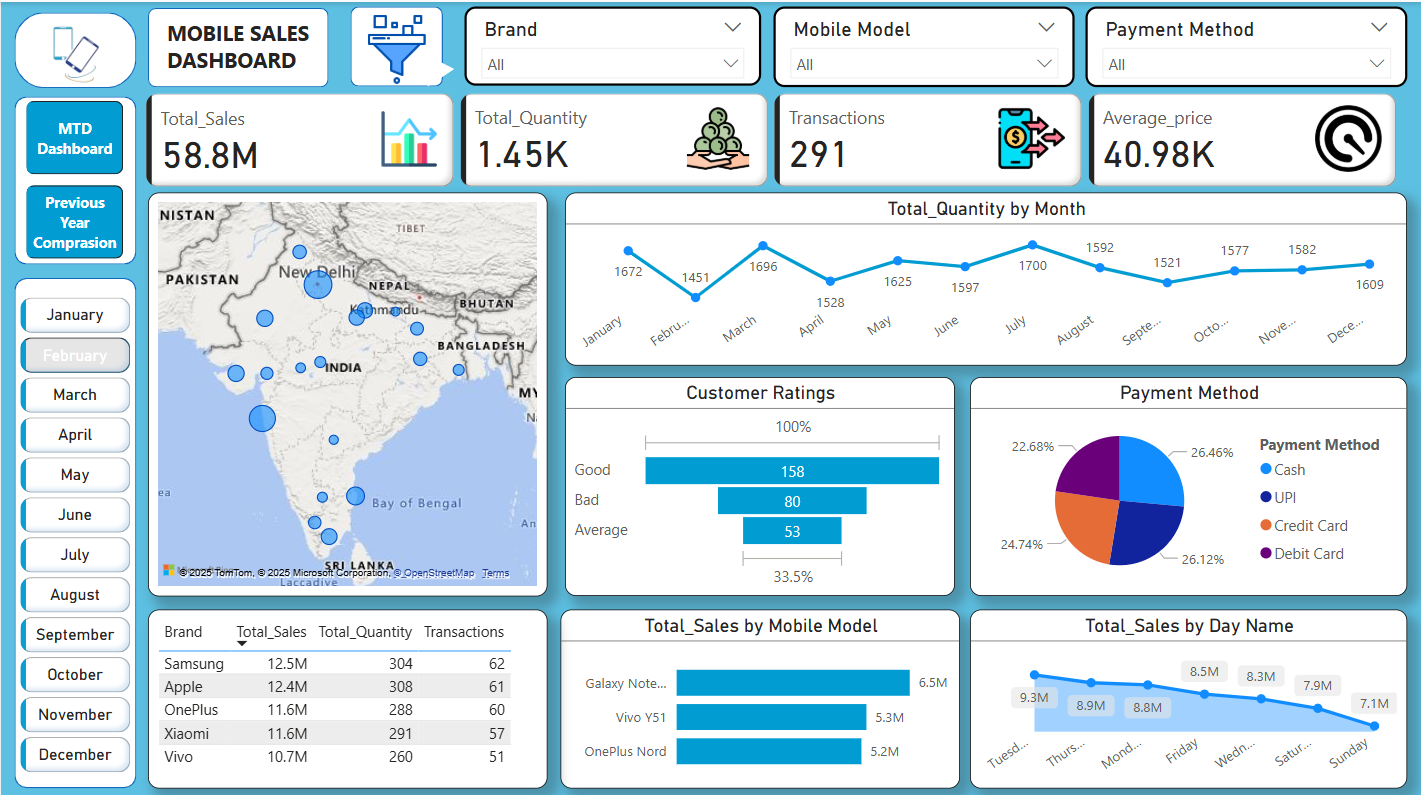

The dashboard page shown, as its layout file describes it:
{"tool":"powerbi","page":{"name":"Dashboard","canvas":[1280,720],"ordinal":0},"visuals":[{"type":"shape","box":[12.5,9.7,109.7,68.1],"z":0},{"type":"image","box":[25,0,86.1,94.4],"z":1000},{"type":"shape","box":[12.5,84.7,109.7,151.4],"z":2000},{"type":"shape","box":[12.5,248.6,109.7,459.7],"z":3000},{"type":"advancedSlicerVisual","fields":{"Values":["Custom_Calender.Date.Variation.Date Hierarchy.Month"]},"box":[12.5,261.1,109.7,447.2],"z":4000},{"type":"cardVisual","fields":{"Data":["Mobile_Sales_Data.Total_Sales","Mobile_Sales_Data.Total_Quantity","Mobile_Sales_Data.Transactions","Mobile_Sales_Data.Average_price"]},"box":[111.4,77.1,1168.6,94.3],"z":5000},{"type":"slicer","fields":{"Values":["Mobile_Sales_Data.Mobile Model"]},"box":[695.7,4.3,271.4,72.9],"z":6000},{"type":"slicer","fields":{"Values":["Mobile_Sales_Data.Payment Method"]},"box":[977.1,4.3,290,72.9],"z":7000},{"type":"slicer","fields":{"Values":["Mobile_Sales_Data.Brand"]},"box":[417.1,4.3,267.1,71.4],"z":8000},{"type":"shape","box":[314.3,4.3,83.3,72.2],"z":9000,"group":"g1"},{"type":"group","id":"g1","title":"Group 1","box":[314.3,4.3,102.9,71.4],"z":9000},{"type":"image","box":[295.7,5.7,121.4,74.3],"z":10000},{"type":"shape","box":[132.9,5.7,162.9,71.4],"z":11000},{"type":"shape","box":[374,47.4,43.1,29.2],"z":11000,"group":"g1"},{"type":"textbox","box":[144.3,10,151.4,74.3],"z":12000},{"type":"map","fields":{"Category":["Mobile_Sales_Data.City"],"Size":["Mobile_Sales_Data.Total_Sales"]},"box":[132.9,171.4,360,364.3],"z":13000},{"type":"lineChart","fields":{"Category":["Custom_Calender.Date.Variation.Date Hierarchy.Month"],"Y":["Mobile_Sales_Data.Total_Quantity"]},"box":[508.6,171.4,758.6,155.7],"z":14000},{"type":"funnel","title":"Customer Ratings","fields":{"Y":["CountNonNull(Mobile_Sales_Data.Customer Ratings)"],"Category":["Mobile_Sales_Data.Rating Status"]},"box":[508.6,338.6,351.4,197.1],"z":15000},{"type":"pieChart","title":"Payment Method","fields":{"Category":["Mobile_Sales_Data.Payment Method"],"Y":["CountNonNull(Mobile_Sales_Data.Payment Method)"]},"box":[872.9,338.6,394.3,197.1],"z":16000},{"type":"barChart","fields":{"Category":["Mobile_Sales_Data.Mobile Model"],"Y":["Mobile_Sales_Data.Total_Sales"]},"box":[504.3,547.1,360,161.4],"z":17000},{"type":"areaChart","fields":{"Category":["Custom_Calender.Day Name"],"Y":["Mobile_Sales_Data.Total_Sales"]},"box":[872.9,547.1,394.3,161.4],"z":18000},{"type":"tableEx","fields":{"Values":["Mobile_Sales_Data.Brand","Mobile_Sales_Data.Total_Sales","Mobile_Sales_Data.Total_Quantity","Mobile_Sales_Data.Transactions"]},"box":[132.9,547.1,360,161.4],"z":19000},{"type":"pageNavigator","box":[22.7,89.3,87.8,142.3],"z":20000}]}

Visuals, with their boxes in screenshot pixels (x1, y1, x2, y2), scaled from the page's 1280x720 canvas onto the 1421x795 screenshot:
shape: crop(14, 11, 136, 86)
image: crop(28, 0, 123, 104)
shape: crop(14, 94, 136, 261)
shape: crop(14, 274, 136, 782)
advancedSlicerVisual - Custom_Calender.Date.Variation.Date Hierarchy.Month: crop(14, 288, 136, 782)
cardVisual - Mobile_Sales_Data.Total_Sales x Mobile_Sales_Data.Total_Quantity: crop(124, 85, 1420, 189)
slicer - Mobile_Sales_Data.Mobile Model: crop(772, 5, 1074, 85)
slicer - Mobile_Sales_Data.Payment Method: crop(1085, 5, 1407, 85)
slicer - Mobile_Sales_Data.Brand: crop(463, 5, 760, 84)
shape: crop(349, 5, 441, 84)
"Group 1" group: crop(349, 5, 463, 84)
image: crop(328, 6, 463, 88)
shape: crop(148, 6, 328, 85)
shape: crop(415, 52, 463, 85)
textbox: crop(160, 11, 328, 93)
map - Mobile_Sales_Data.City x Mobile_Sales_Data.Total_Sales: crop(148, 189, 547, 592)
lineChart - Custom_Calender.Date.Variation.Date Hierarchy.Month x Mobile_Sales_Data.Total_Quantity: crop(565, 189, 1407, 361)
"Customer Ratings" funnel: crop(565, 374, 955, 592)
"Payment Method" pieChart: crop(969, 374, 1407, 592)
barChart - Mobile_Sales_Data.Mobile Model x Mobile_Sales_Data.Total_Sales: crop(560, 604, 960, 782)
areaChart - Custom_Calender.Day Name x Mobile_Sales_Data.Total_Sales: crop(969, 604, 1407, 782)
tableEx - Mobile_Sales_Data.Brand x Mobile_Sales_Data.Total_Sales: crop(148, 604, 547, 782)
pageNavigator: crop(25, 99, 123, 256)
